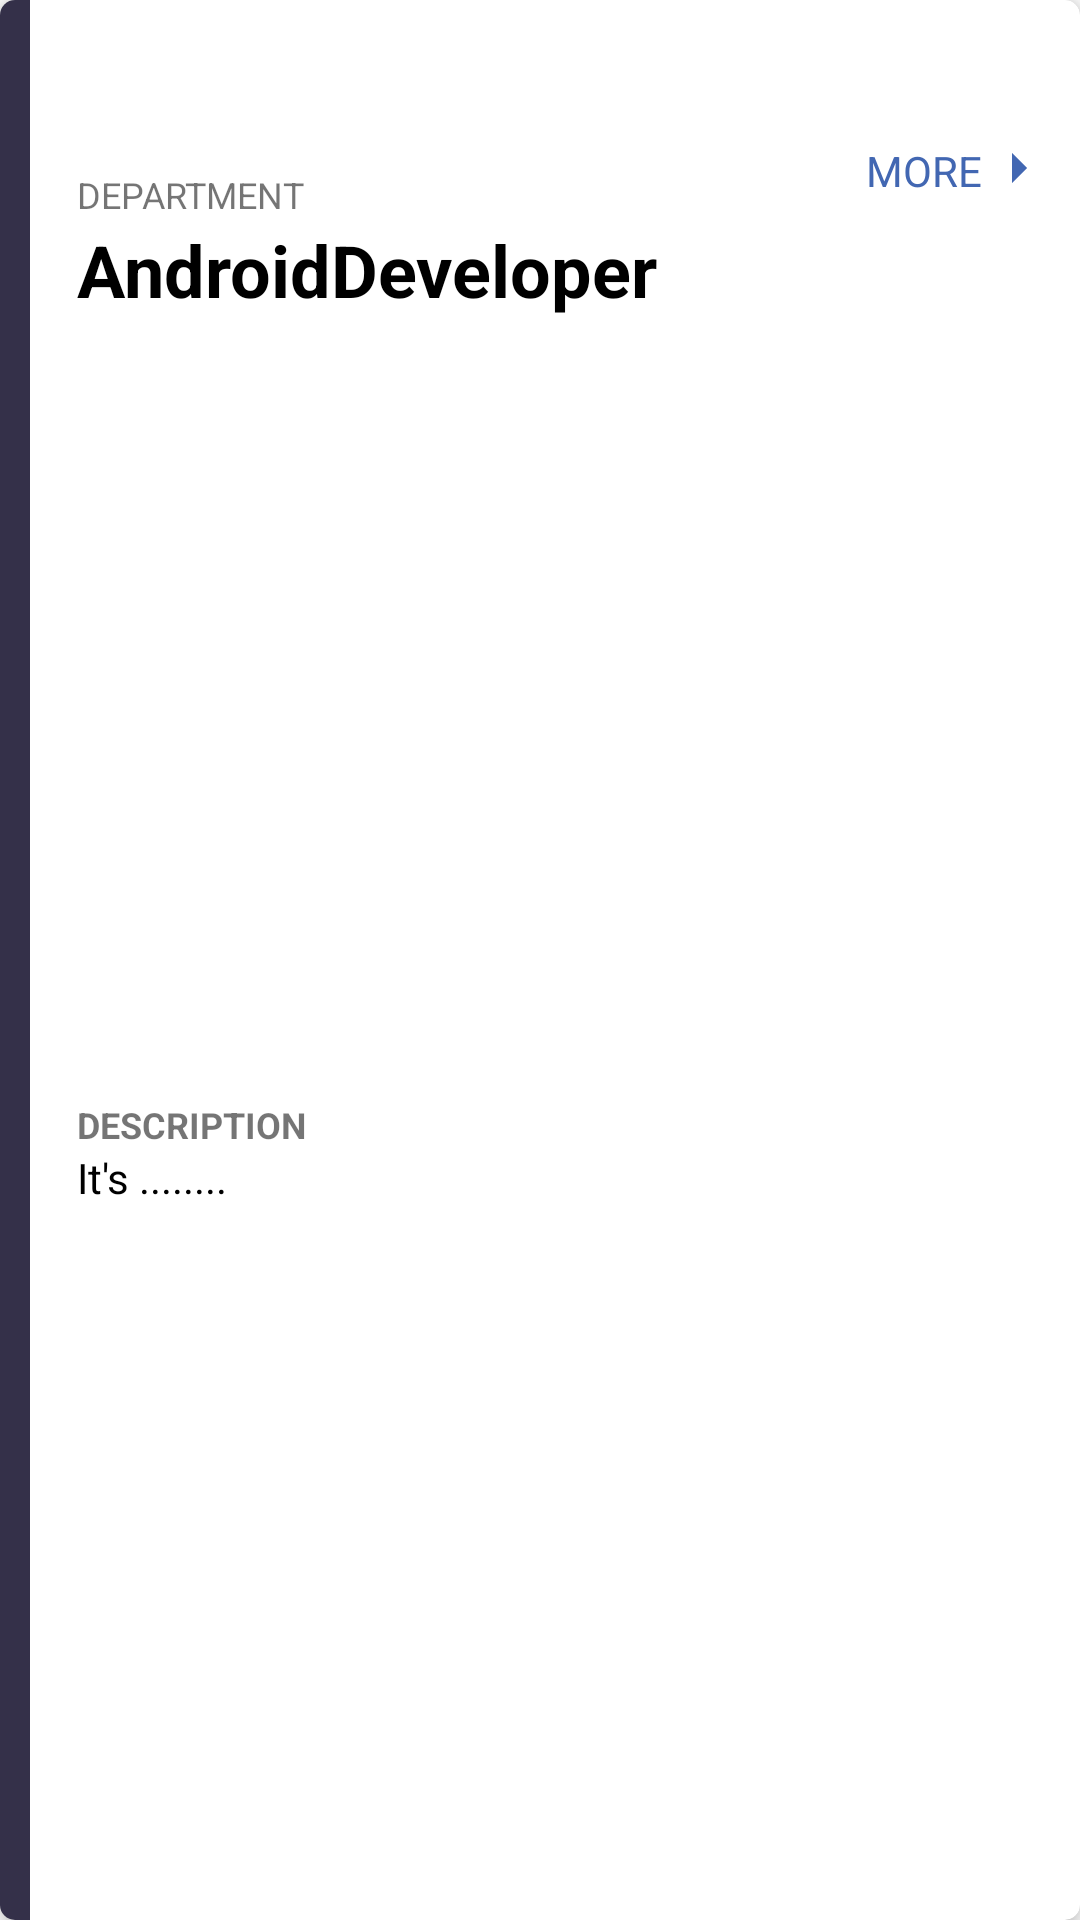

Icon click points for this 1080w x 1920h phone screenshot, format (x=x, y=y):
arrow right: (x=1019, y=168)
